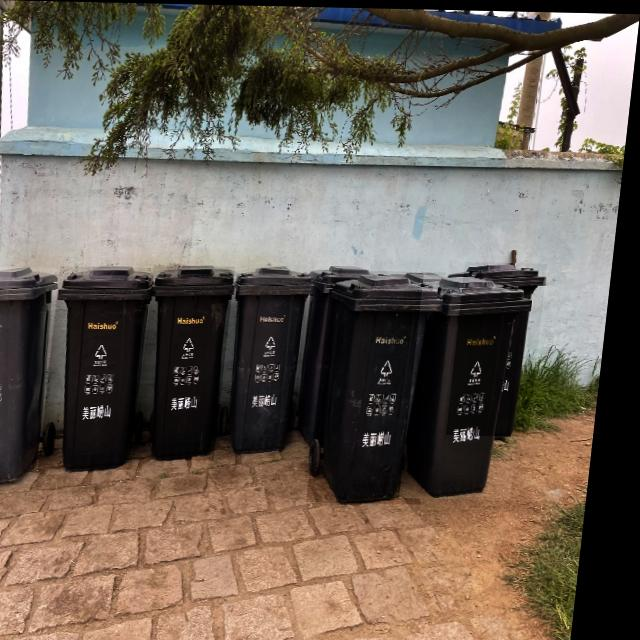garbage_bin: (318, 268, 452, 502), (410, 273, 541, 498), (49, 266, 160, 469), (143, 264, 241, 460), (225, 263, 321, 453), (456, 260, 554, 434), (0, 266, 66, 487), (302, 263, 376, 441)
